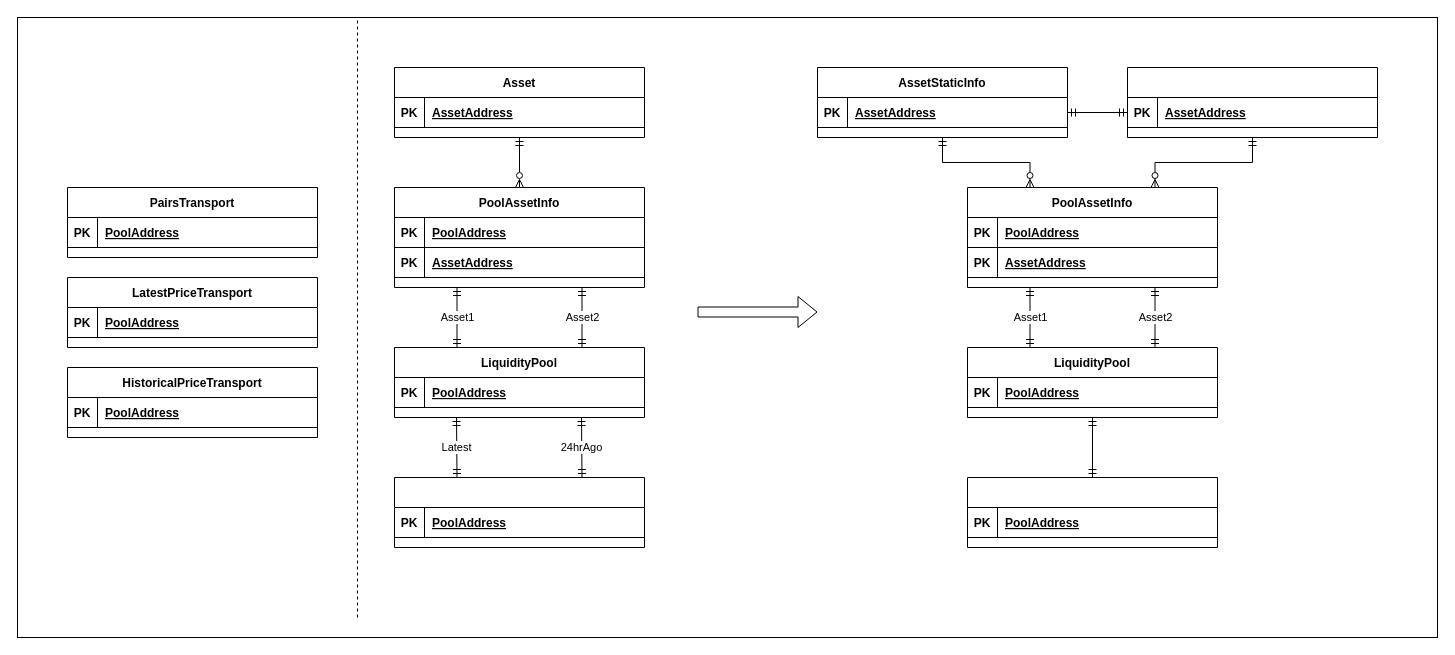
This 1455x655 diagram has some shape labels left out. Each missing label, with the box of its shape:
AssetDynamicInfo: (1126, 66, 1378, 138)
Price: (394, 476, 644, 548)
Prices: (966, 476, 1218, 548)
